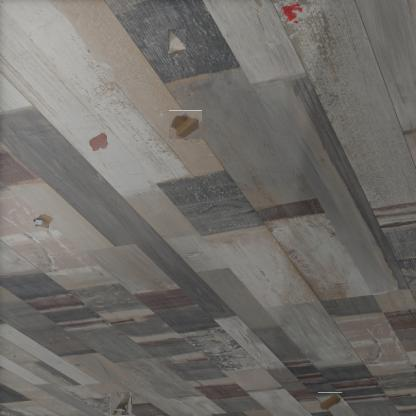dirty: (170, 109, 201, 141), (108, 393, 132, 416), (168, 29, 186, 57), (30, 210, 54, 230), (318, 392, 342, 411)
liquid: (87, 130, 109, 152), (282, 4, 302, 22)
